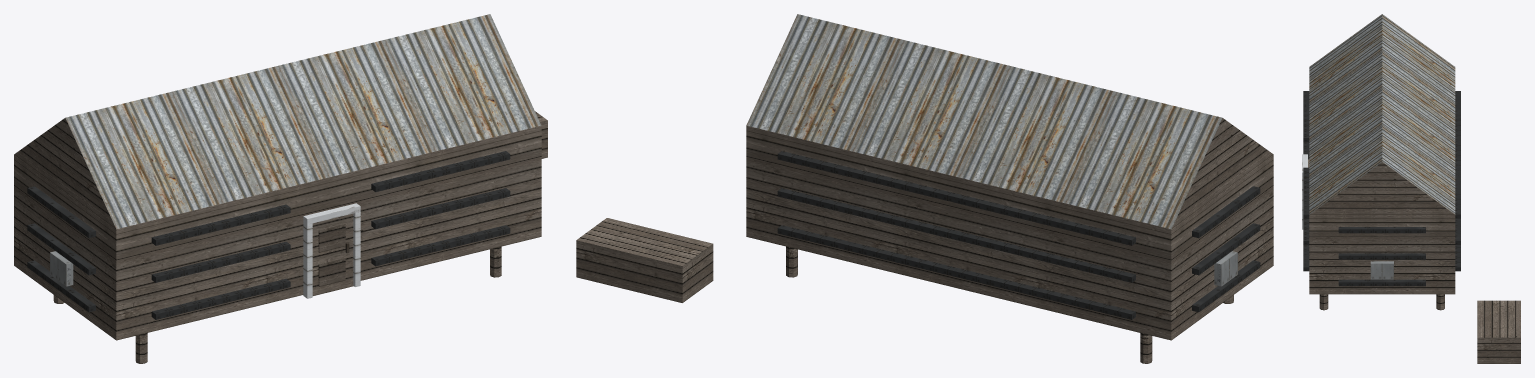
The model's file is corn-crib_lod0.gltf.
3 renders of one model, left to right at view 1: azimuth 30°, elevation 25°; view 2: azimuth 150°, elevation 25°; view 3: azimuth 270°, elevation 25°, orthographic. The views are drawn at different scales.
Visible parts, largest first — view 1: corn-crib_roof, corn-crib_walls, corn-crib_fen_14-steel-panel_0_t, corn-crib_gable_ends, corn-crib_fen_20-white-clapboard_1, corn-crib_fen_18-timber-siding_2, corn-crib_fen_18-timber-siding_3_t, corn-crib_fen_14-steel-panel_5; view 2: corn-crib_roof, corn-crib_walls, corn-crib_fen_14-steel-panel_0_t, corn-crib__wagon, corn-crib_gable_ends, corn-crib_fen_14-steel-panel_5; view 3: corn-crib_roof, corn-crib_walls, corn-crib_fen_14-steel-panel_0_t, corn-crib_gable_ends, corn-crib__wagon, corn-crib_fen_14-steel-panel_5, corn-crib_fen_20-white-clapboard_1.
Boxes of the visible parts, bbox=[...] form: corn-crib_roof: bbox=[65, 14, 541, 229]; corn-crib_walls: bbox=[14, 125, 541, 340]; corn-crib_fen_14-steel-panel_0_t: bbox=[27, 151, 510, 319]; corn-crib_gable_ends: bbox=[14, 118, 115, 228]; corn-crib_fen_20-white-clapboard_1: bbox=[303, 203, 360, 298]; corn-crib_fen_18-timber-siding_2: bbox=[312, 213, 353, 295]; corn-crib_fen_18-timber-siding_3_t: bbox=[318, 224, 345, 286]; corn-crib_fen_14-steel-panel_5: bbox=[50, 251, 73, 286]; corn-crib_roof: bbox=[746, 14, 1222, 229]; corn-crib_walls: bbox=[746, 125, 1273, 340]; corn-crib_fen_14-steel-panel_0_t: bbox=[777, 151, 1260, 319]; corn-crib__wagon: bbox=[576, 218, 713, 302]; corn-crib_gable_ends: bbox=[1171, 118, 1273, 228]; corn-crib_fen_14-steel-panel_5: bbox=[1214, 251, 1237, 286]; corn-crib_roof: bbox=[1309, 14, 1455, 214]; corn-crib_walls: bbox=[1309, 215, 1455, 294]; corn-crib_fen_14-steel-panel_0_t: bbox=[1303, 91, 1460, 286]; corn-crib_gable_ends: bbox=[1310, 162, 1454, 214]; corn-crib__wagon: bbox=[1477, 300, 1520, 363]; corn-crib_fen_14-steel-panel_5: bbox=[1370, 261, 1393, 279]; corn-crib_fen_20-white-clapboard_1: bbox=[1302, 154, 1307, 229].
Bounding box in the file's own units: 15.7 × 6 × 7.5.
